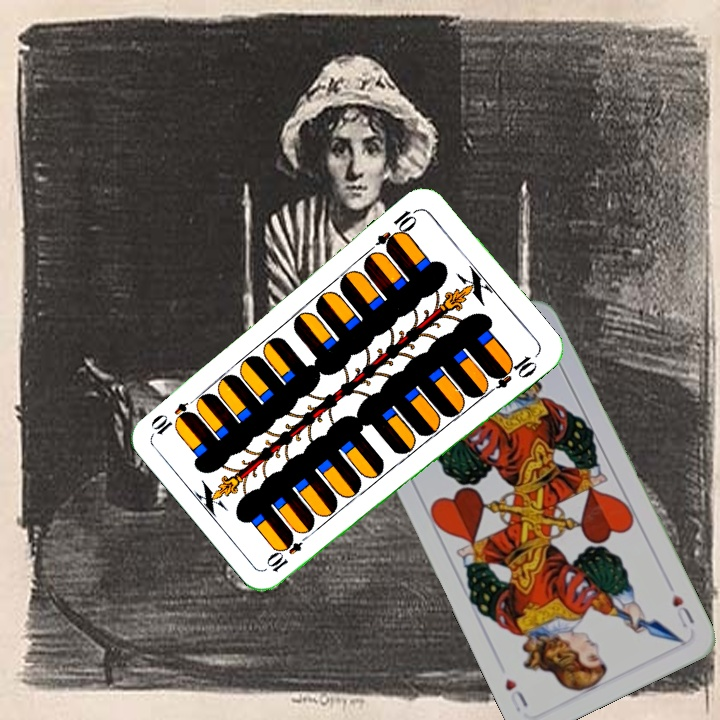E10: (372, 204, 422, 254), (263, 527, 314, 575)
HU: (668, 590, 697, 631)
